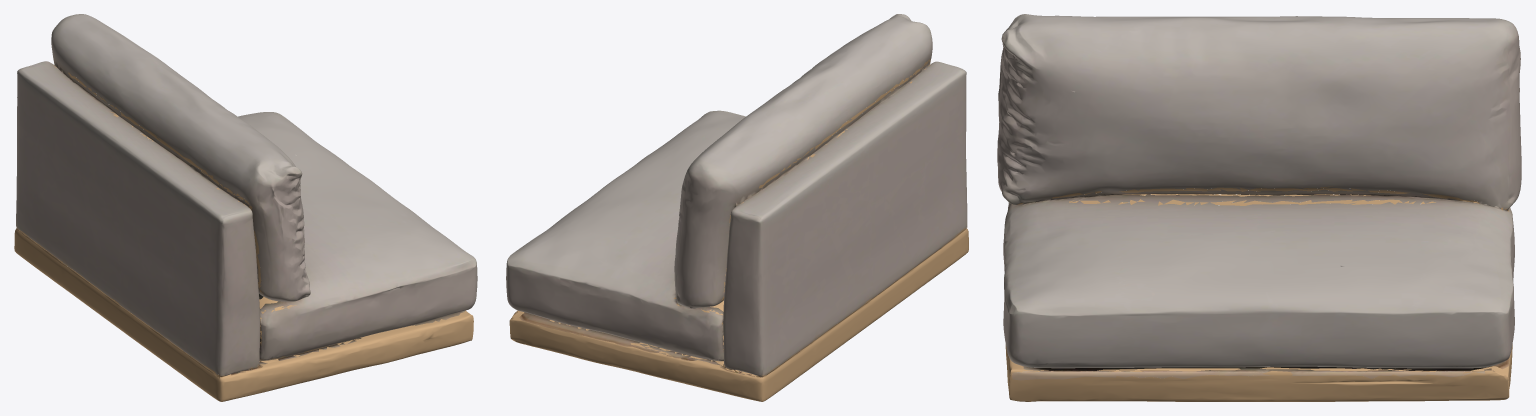
3 views of the same model, side by side, from view 1: azimuth 30°, elevation 25°; view 2: azimuth 150°, elevation 25°; view 3: azimuth 270°, elevation 25° (orthographic). The views are drawn at different scales.
Parts seen in each view (by area): view 1: tripo_node_2bb0425a-6acd-47b5-85e8-efe9cc6878fd; view 2: tripo_node_2bb0425a-6acd-47b5-85e8-efe9cc6878fd; view 3: tripo_node_2bb0425a-6acd-47b5-85e8-efe9cc6878fd.
Boxes of the visible parts, x1=… form: tripo_node_2bb0425a-6acd-47b5-85e8-efe9cc6878fd: x1=14, y1=14, x2=477, y2=401; tripo_node_2bb0425a-6acd-47b5-85e8-efe9cc6878fd: x1=506, y1=14, x2=968, y2=401; tripo_node_2bb0425a-6acd-47b5-85e8-efe9cc6878fd: x1=997, y1=14, x2=1521, y2=401.
Size of the model in its own units: 0.78 by 0.65 by 1.13.
Materials: 2 (1 with a texture image).
